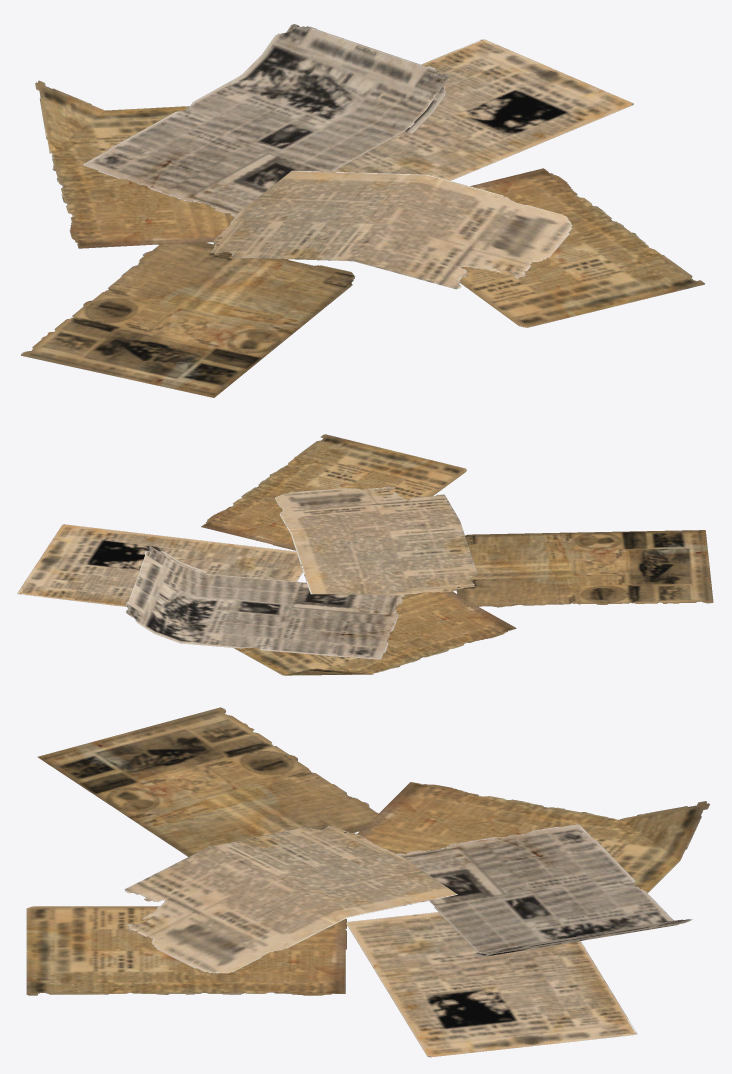
File: Prop_PaperA.fbx
The picture shows the model from 3 angles, top to bottom: view 1: azimuth 30°, elevation 25°; view 2: azimuth 150°, elevation 25°; view 3: azimuth 270°, elevation 25°; orthographic projection. The views are drawn at different scales.
Parts seen in each view (by area): view 1: Plane_009; view 2: Plane_009; view 3: Plane_009.
Part boxes in pixels (x1,y1,x2,y2): Plane_009: (21, 24, 704, 397); Plane_009: (17, 434, 713, 675); Plane_009: (26, 707, 709, 1057).
Bounding box in the file's own units: 3.72 × 0.2016 × 3.12.
